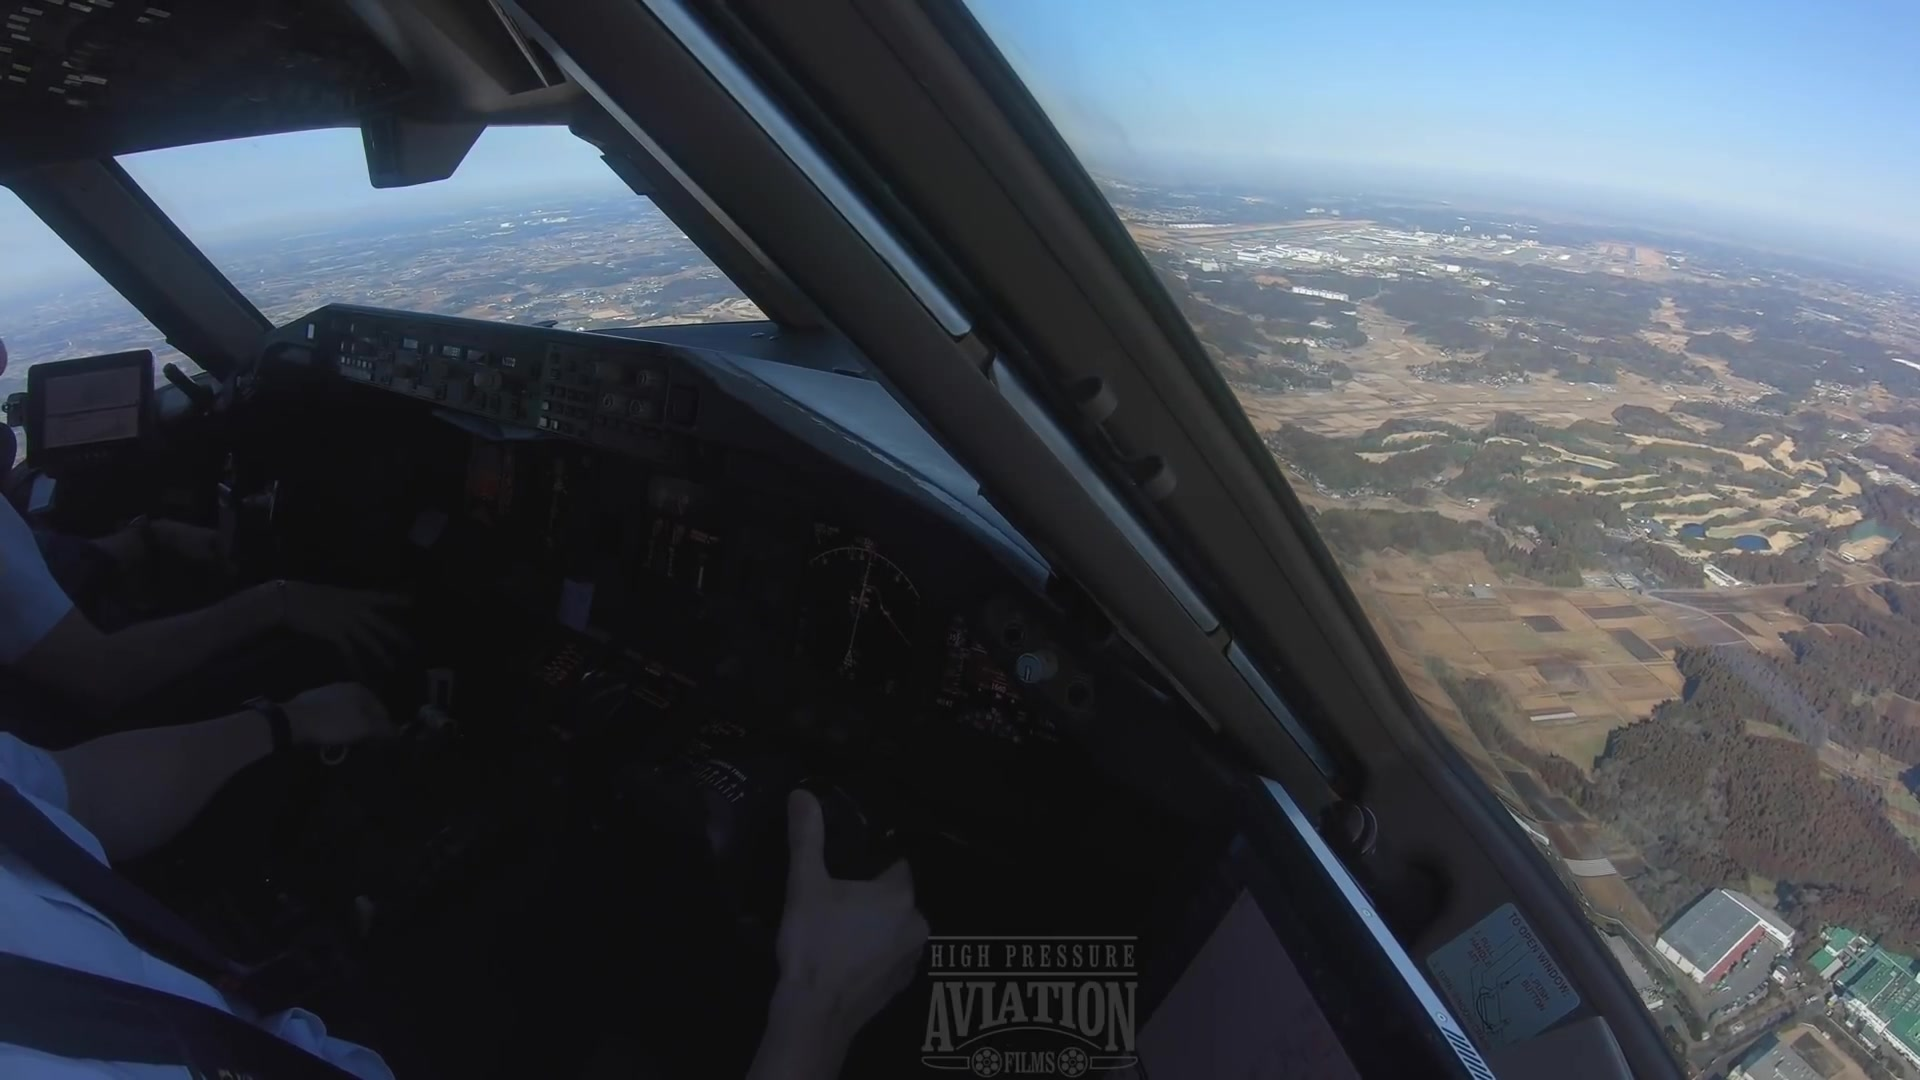runway: (1622, 243, 1640, 266)
